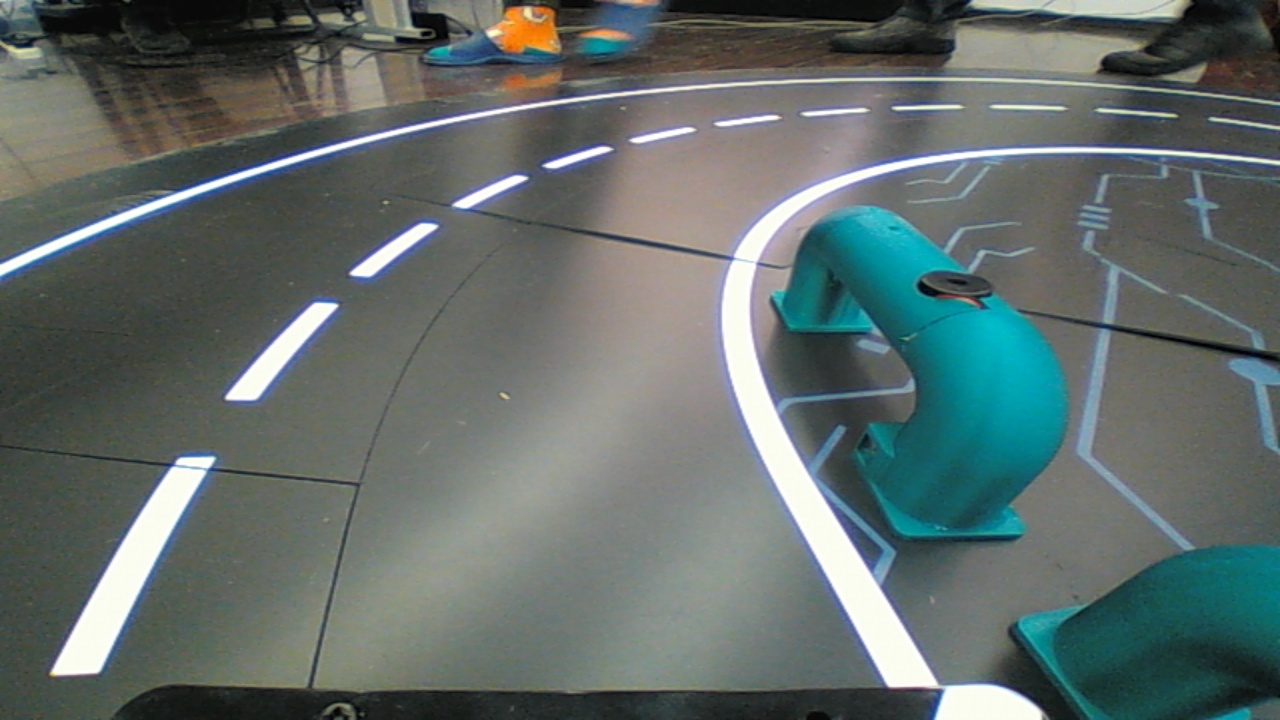Pedestrian crossing: (752, 187, 1082, 543)
